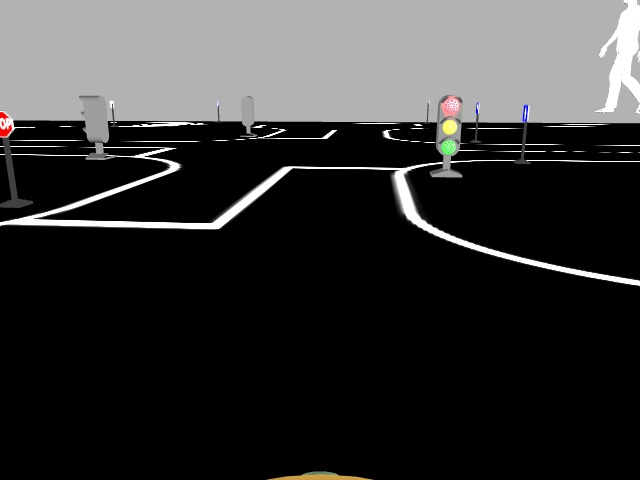Stop: (0, 105, 13, 138)
TrafficLight: (433, 94, 467, 157)
